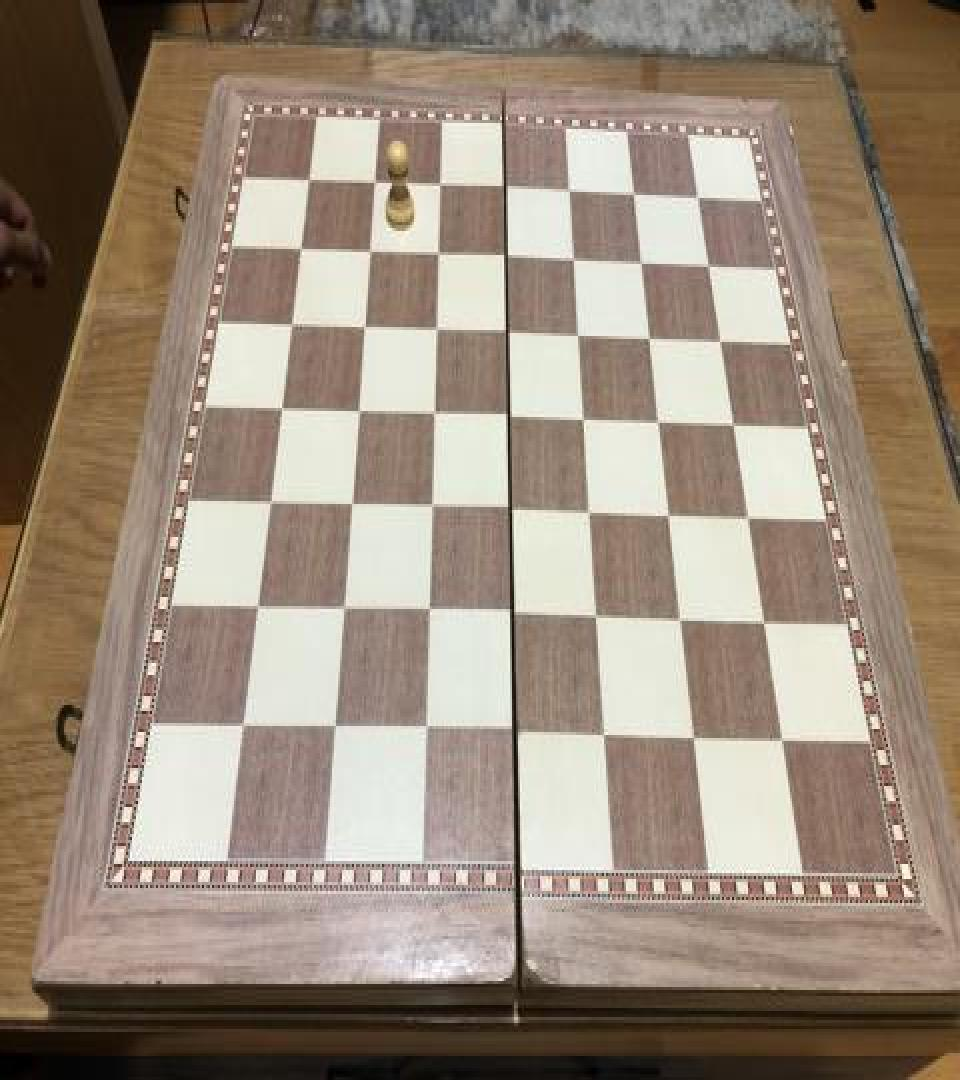xcorner: (588, 601, 612, 638), (324, 712, 348, 749), (688, 183, 712, 219), (624, 180, 648, 216), (560, 177, 584, 213), (495, 174, 519, 210), (430, 171, 454, 207), (364, 168, 388, 204), (298, 164, 322, 200), (699, 252, 723, 288), (632, 249, 656, 285), (564, 246, 588, 282), (496, 242, 520, 278), (428, 238, 452, 274), (359, 236, 383, 272), (290, 232, 314, 268), (711, 327, 735, 363), (641, 324, 665, 360), (570, 321, 594, 357), (498, 318, 522, 354), (426, 315, 450, 351), (354, 312, 378, 348), (281, 308, 305, 344), (724, 410, 748, 446), (650, 406, 674, 442), (575, 404, 599, 440), (500, 400, 524, 436), (424, 398, 448, 434), (347, 394, 371, 430), (271, 392, 295, 428), (739, 502, 763, 538), (660, 500, 684, 536), (581, 498, 605, 534), (502, 495, 526, 531), (421, 492, 445, 528), (341, 489, 365, 525), (259, 486, 283, 522), (756, 608, 780, 644), (672, 604, 696, 640), (504, 598, 528, 634), (419, 597, 443, 633), (333, 594, 357, 630), (246, 591, 270, 627), (774, 724, 798, 760), (686, 722, 710, 758), (596, 720, 620, 756), (506, 717, 530, 753), (416, 716, 440, 752), (232, 711, 256, 747)
